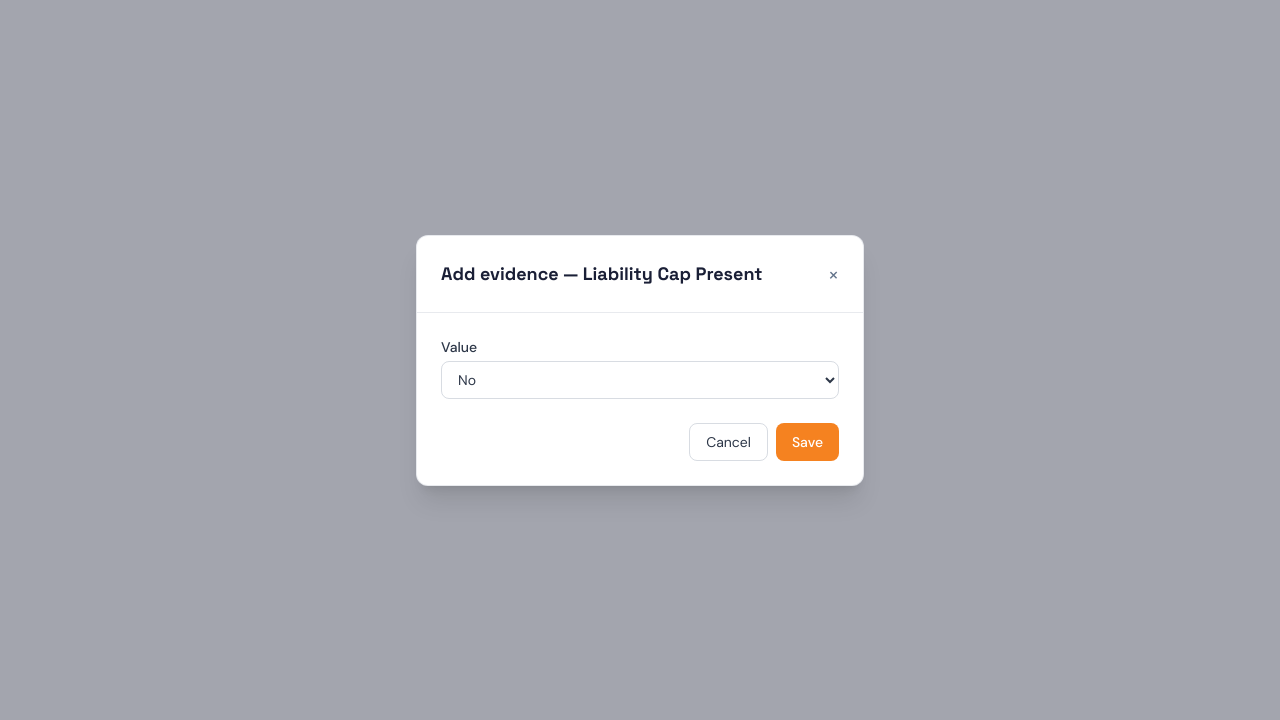
Scenario: shows the API error and stays open on failure
Click the button "Save" at [807, 442], box [776,422,839,460]
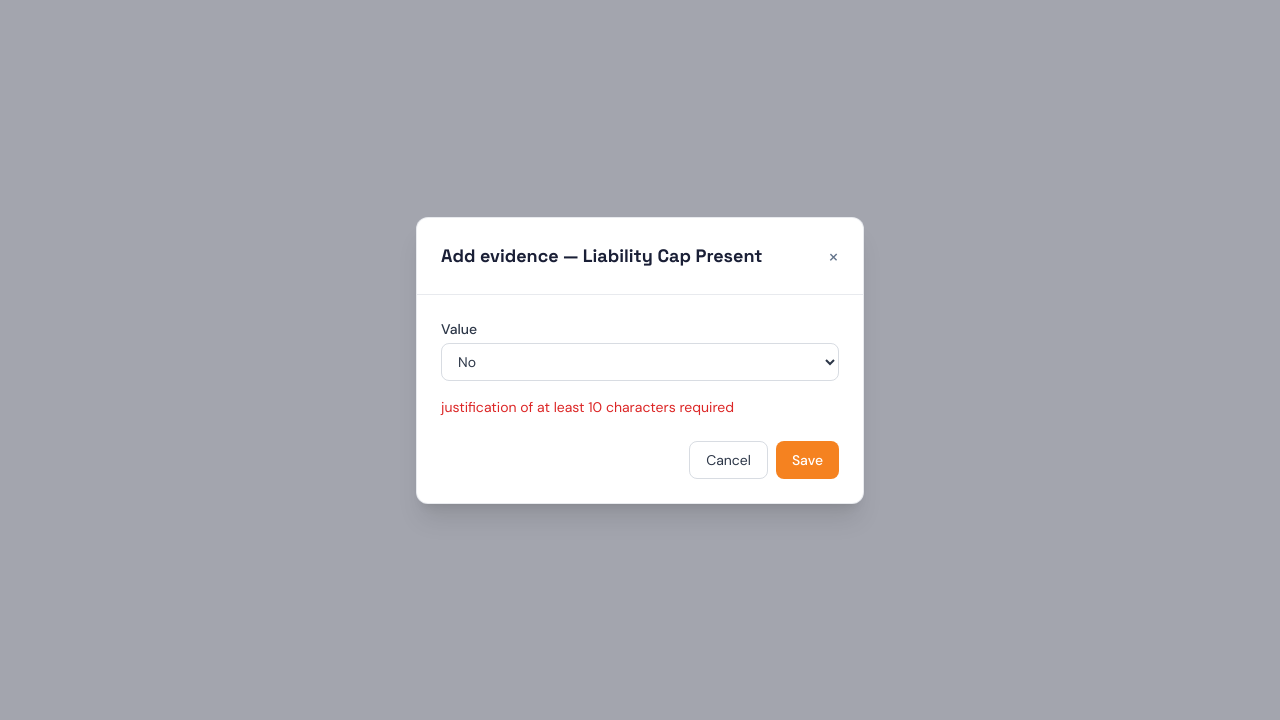
Result: the text "justification of at least 10 characters required" is shown at [441,398,734,416]
